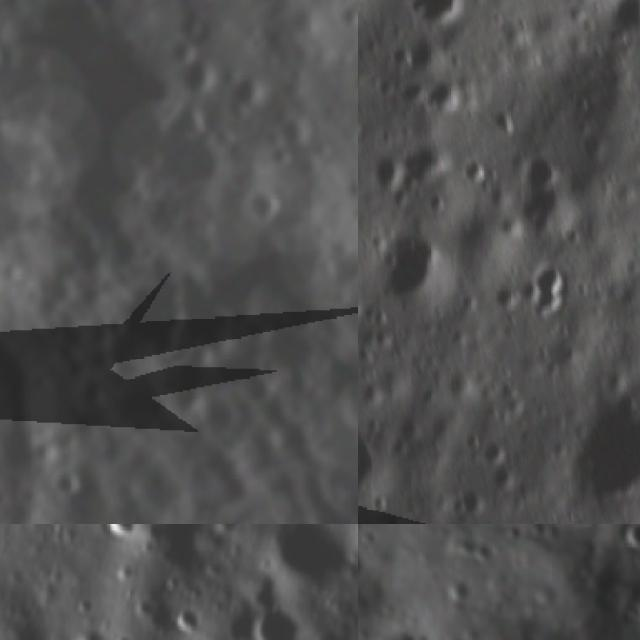crater: (76, 267, 208, 394), (257, 524, 358, 592), (581, 403, 640, 494), (381, 221, 442, 306), (207, 57, 276, 124), (170, 40, 227, 101), (234, 170, 287, 229), (60, 363, 113, 418), (40, 453, 92, 508), (264, 106, 318, 155), (241, 600, 307, 640), (327, 359, 358, 431), (537, 260, 569, 314), (517, 150, 563, 187), (278, 364, 318, 404), (173, 603, 210, 640), (605, 0, 640, 38), (369, 151, 408, 185), (407, 0, 470, 20), (427, 77, 461, 113), (332, 156, 358, 201), (99, 524, 147, 546), (358, 430, 374, 495), (460, 160, 494, 187), (68, 621, 109, 640), (488, 107, 517, 133), (444, 495, 474, 517), (489, 282, 514, 308), (478, 439, 505, 461), (486, 467, 514, 488), (470, 538, 490, 566), (518, 275, 538, 298), (461, 432, 484, 448), (631, 524, 640, 546)
